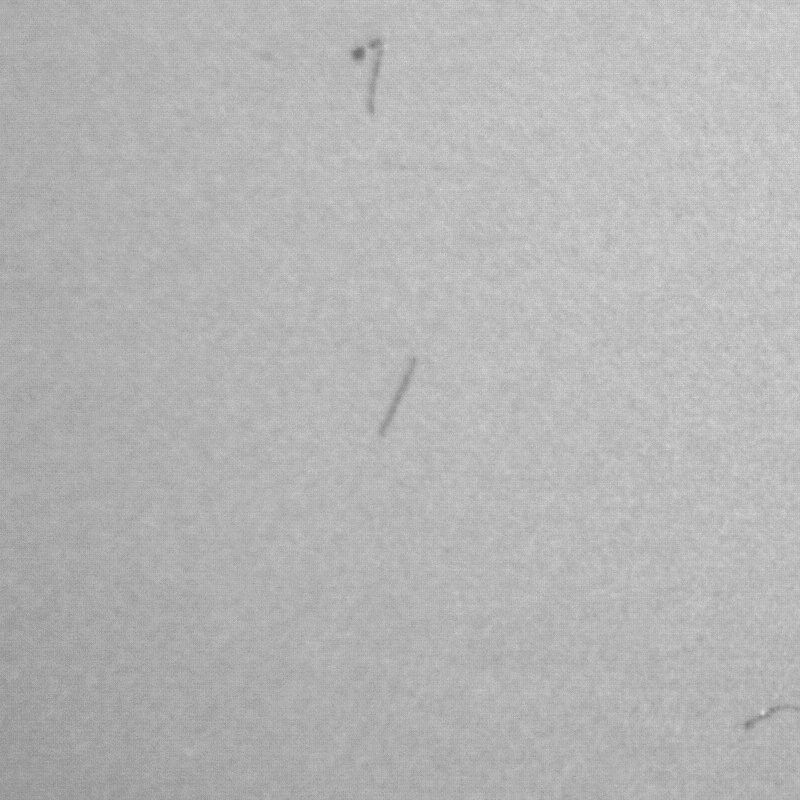defect: (373, 359, 422, 438), (350, 36, 390, 118), (734, 708, 798, 729)
